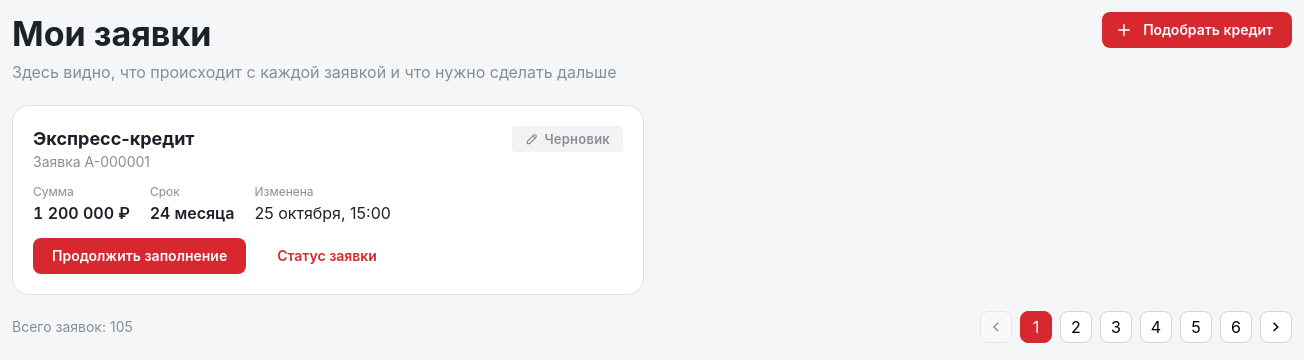
Scenario: requests server pages and reaches an application beyond the old first-100 limit
Check: the text "Заявка A-000001" is shown, box [33,153,150,170]
Click the button "6" at (1236, 327), box [1220,311,1252,343]
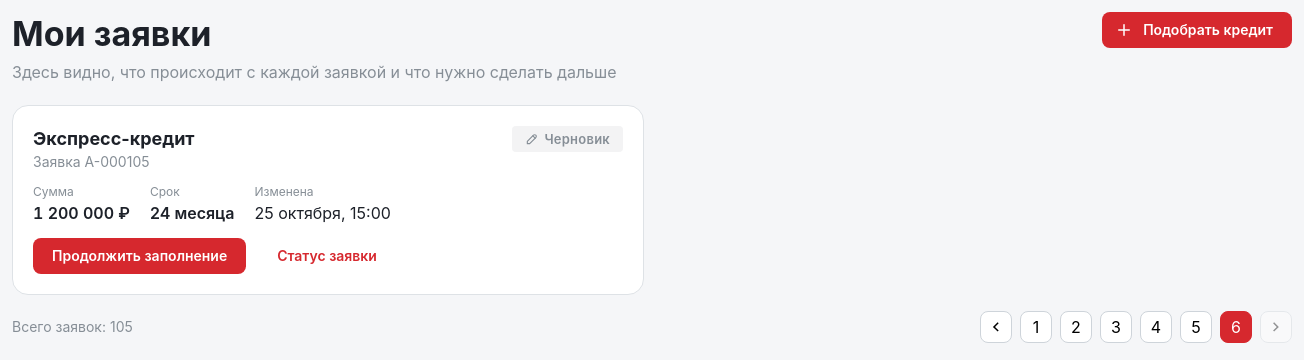
Check: the text "Всего заявок: 105" is shown, box [12,317,133,337]
Check: the text "Заявка A-000105" is shown, box [33,153,150,170]
